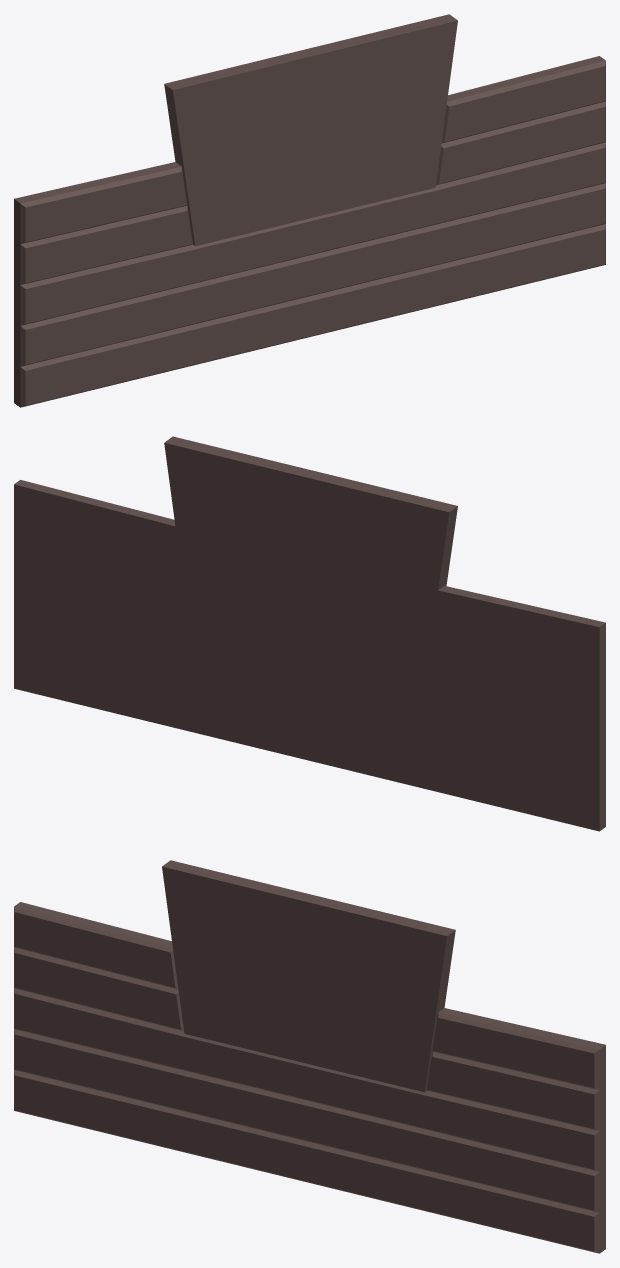
Rendered from Module_Building_Wall_Top.fbx.
3 renders of one model, top to bottom at view 1: azimuth 30°, elevation 25°; view 2: azimuth 150°, elevation 25°; view 3: azimuth 330°, elevation 25°, orthographic.
Visible parts, largest first — view 1: Module_Building_Wall_Top; view 2: Module_Building_Wall_Top; view 3: Module_Building_Wall_Top.
Part boxes in pixels (x1=…): Module_Building_Wall_Top: x1=14, y1=14, x2=605, y2=407; Module_Building_Wall_Top: x1=14, y1=436, x2=605, y2=831; Module_Building_Wall_Top: x1=14, y1=860, x2=605, y2=1253.
Size of the model in its own units: 300 by 138 by 7.69.
